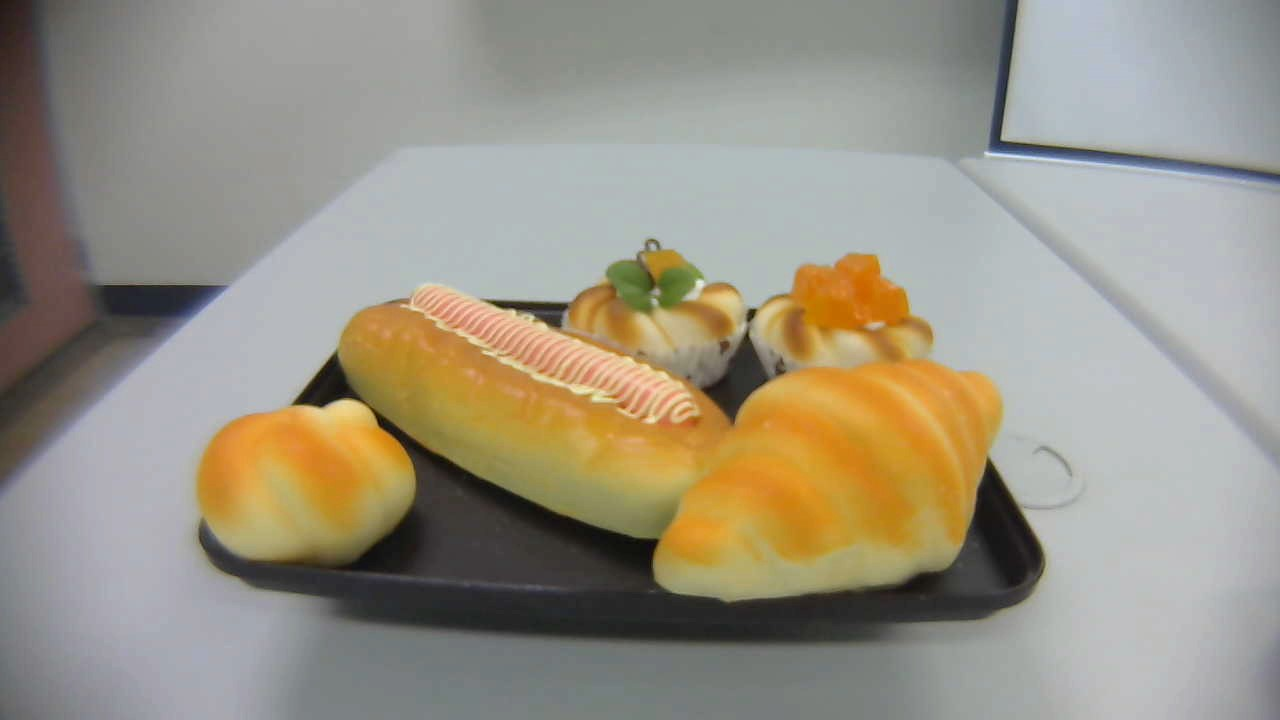croissant: (650, 361, 1003, 603)
fruit tart: (559, 238, 748, 389)
hot dog: (337, 283, 739, 539)
mango tart: (750, 253, 935, 396)
twist bread: (197, 397, 416, 566)
